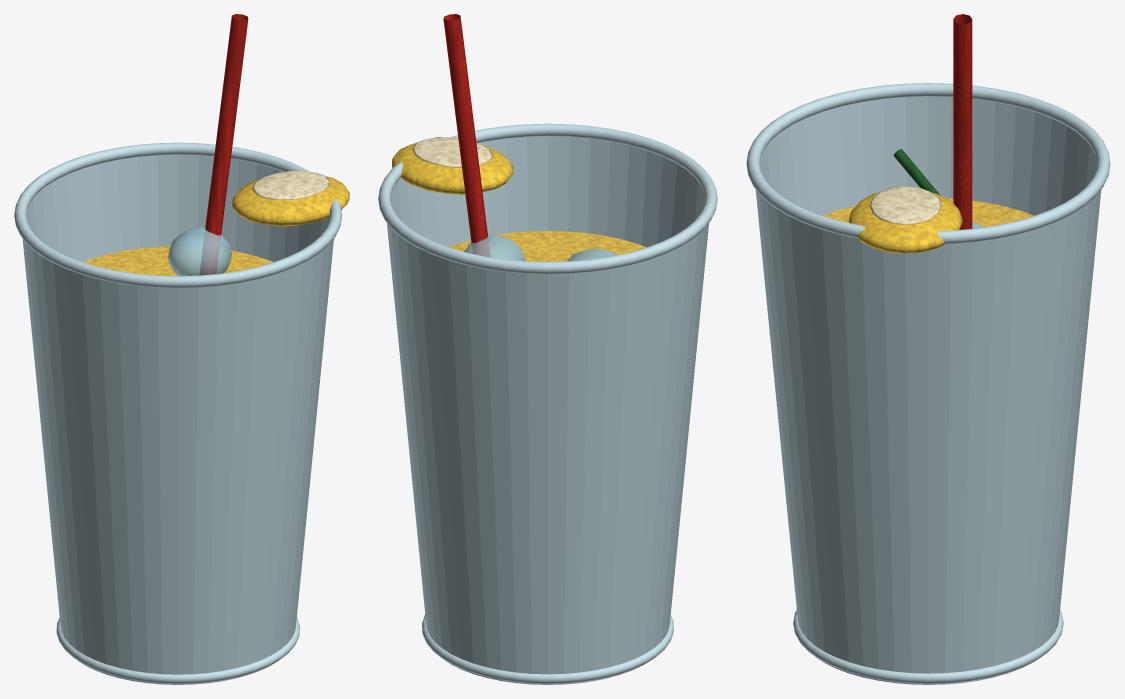
The model's file is limonada-natural.glb.
3 views of the same model, side by side, from view 1: azimuth 30°, elevation 25°; view 2: azimuth 150°, elevation 25°; view 3: azimuth 270°, elevation 25° (orthographic). The views are drawn at different scales.
Parts seen in each view (by area): view 1: glass, straw, lemon, ice, lemonade, cream; view 2: glass, straw, lemon, lemonade, cream, ice; view 3: glass, straw, lemon, cream, lemonade, leaf.
Part boxes in pixels (left/top/right/bottom): glass: left=14, top=142, right=342, bottom=684; straw: left=199, top=14, right=248, bottom=274; lemon: left=232, top=176, right=349, bottom=226; ice: left=168, top=227, right=231, bottom=276; lemonade: left=83, top=246, right=273, bottom=276; cream: left=252, top=170, right=329, bottom=199; glass: left=378, top=123, right=717, bottom=684; straw: left=443, top=14, right=490, bottom=256; lemon: left=392, top=142, right=513, bottom=194; lemonade: left=449, top=231, right=646, bottom=261; cream: left=412, top=137, right=493, bottom=167; ice: left=464, top=235, right=617, bottom=261; glass: left=746, top=83, right=1110, bottom=684; straw: left=953, top=14, right=972, bottom=229; lemon: left=848, top=192, right=962, bottom=253; cream: left=869, top=186, right=941, bottom=224; lemonade: left=823, top=198, right=1033, bottom=226; leaf: left=894, top=149, right=940, bottom=195.
Size of the model in its own units: 0.2009 by 0.3787 by 0.191.
Materials: 7 (7 with a texture image).
